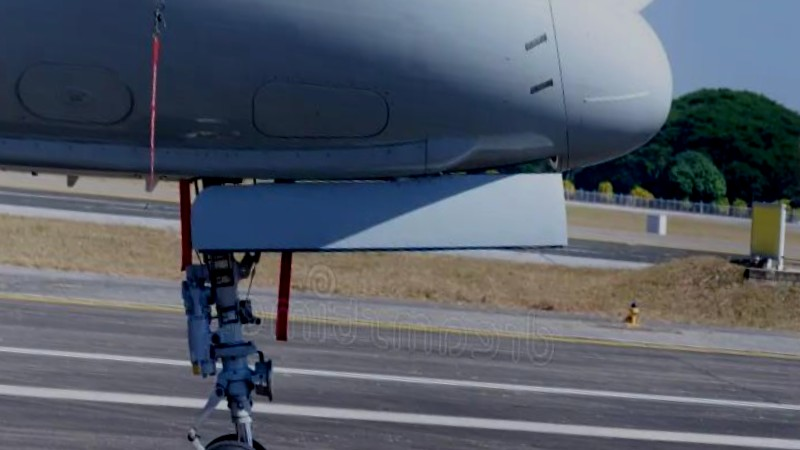wheel: (198, 427, 286, 450)
